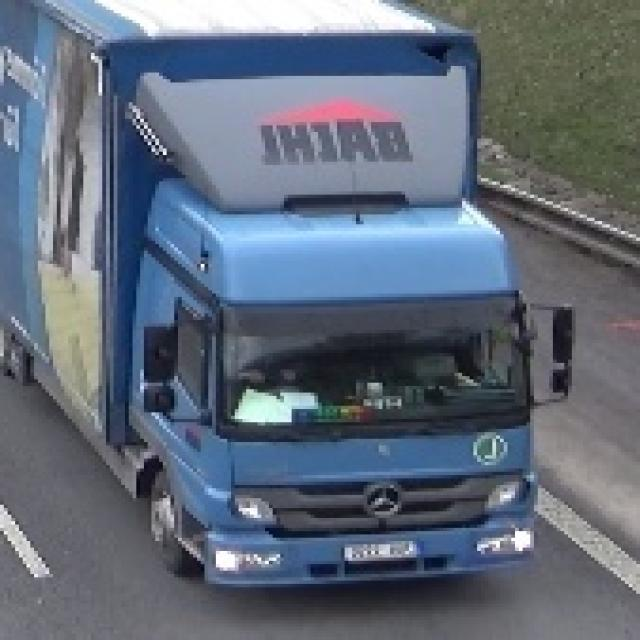TRUCK: (0, 7, 552, 597)
